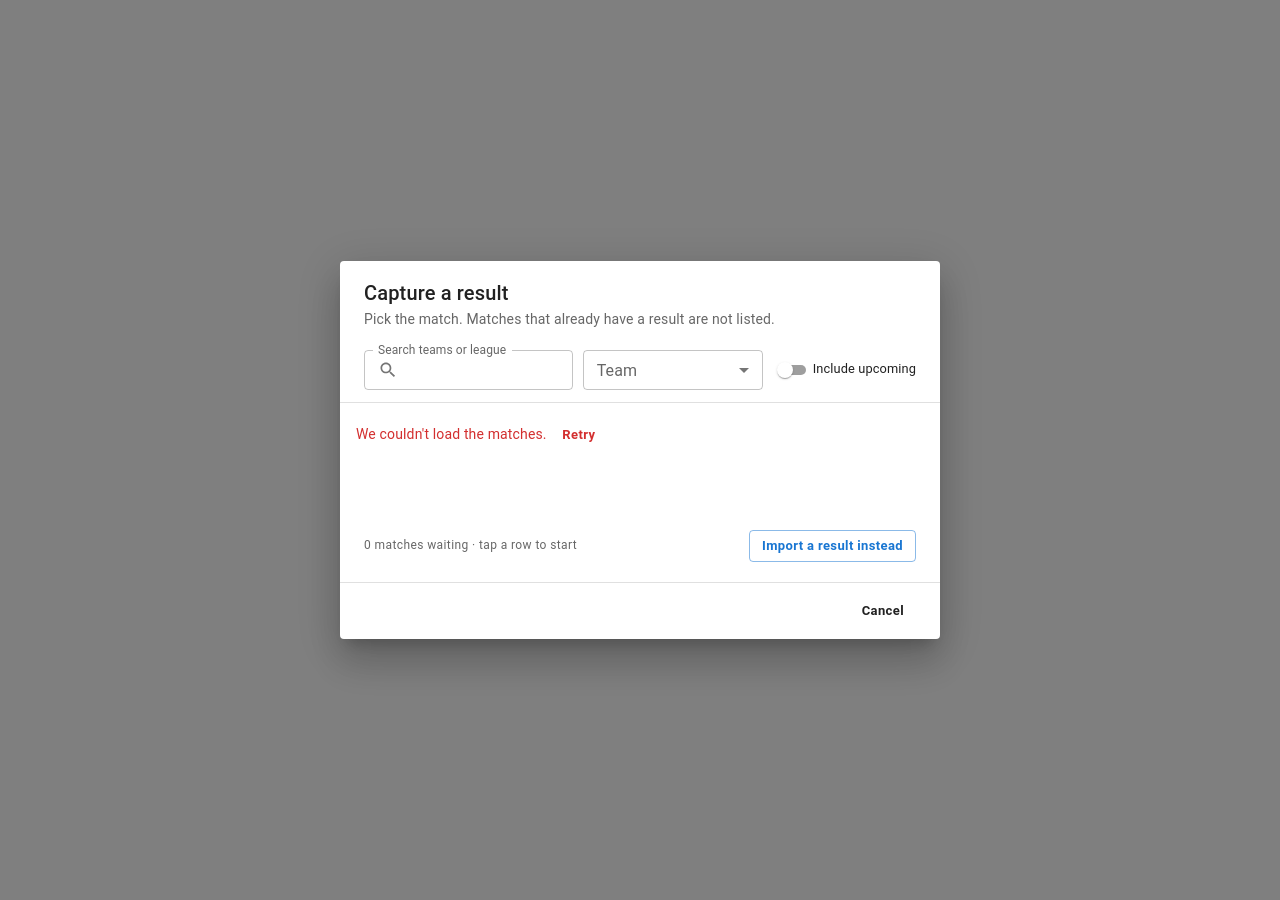
Scenario: CaptureResultDialog › offers a retry when the matches cannot be loaded
The width and height of the screenshot is (1280, 900).
Expected: the message shows "We couldn't load the matches.", x1=356 y1=425 x2=547 y2=441
Click the button "Retry" at [579, 434], box x1=550 y1=418 x2=607 y2=450
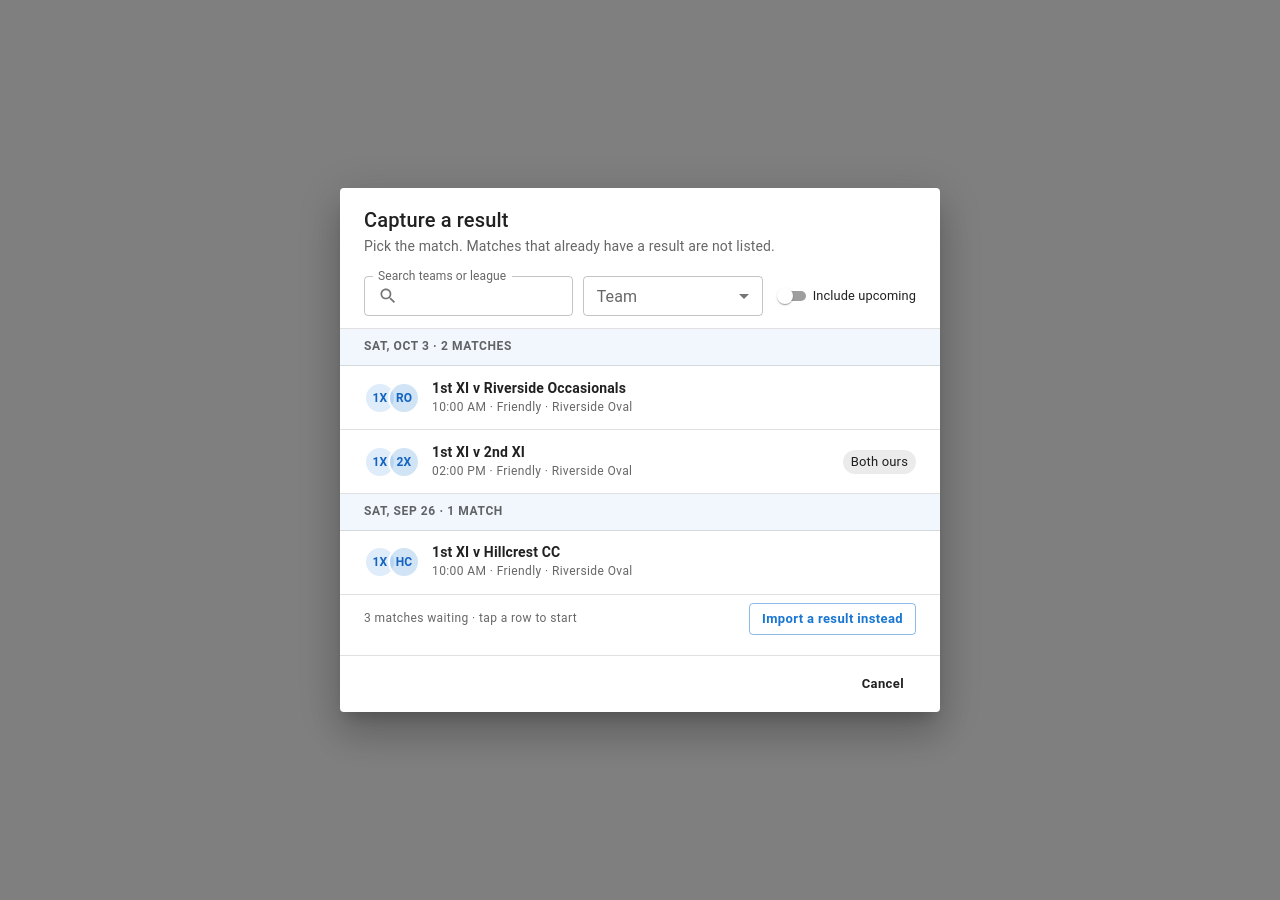
Now the number of buttons with test id "awaiting-match" is 3, box x1=340 y1=366 x2=940 y2=430; x1=340 y1=430 x2=940 y2=494; x1=340 y1=531 x2=940 y2=595
